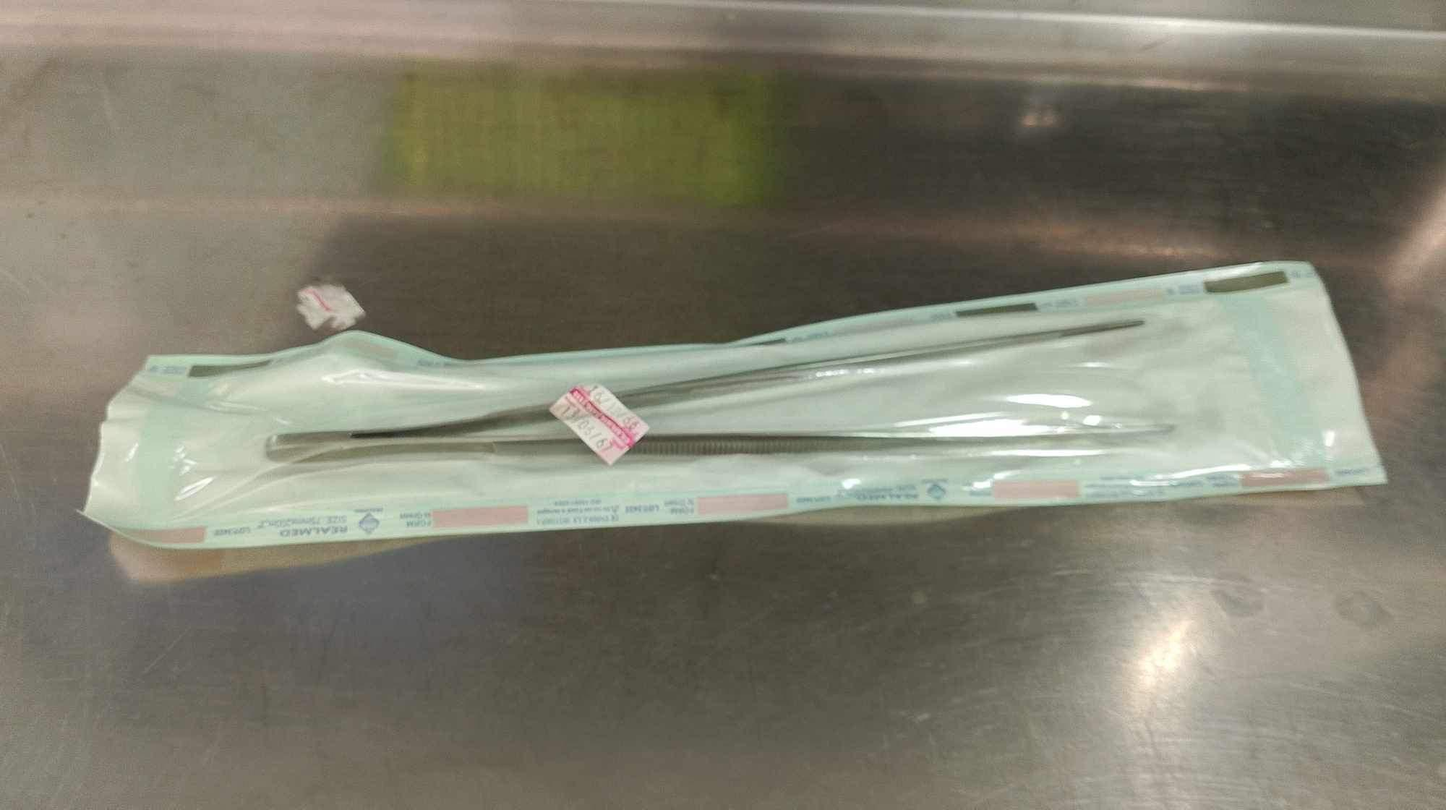General: (75, 256, 1390, 553)
